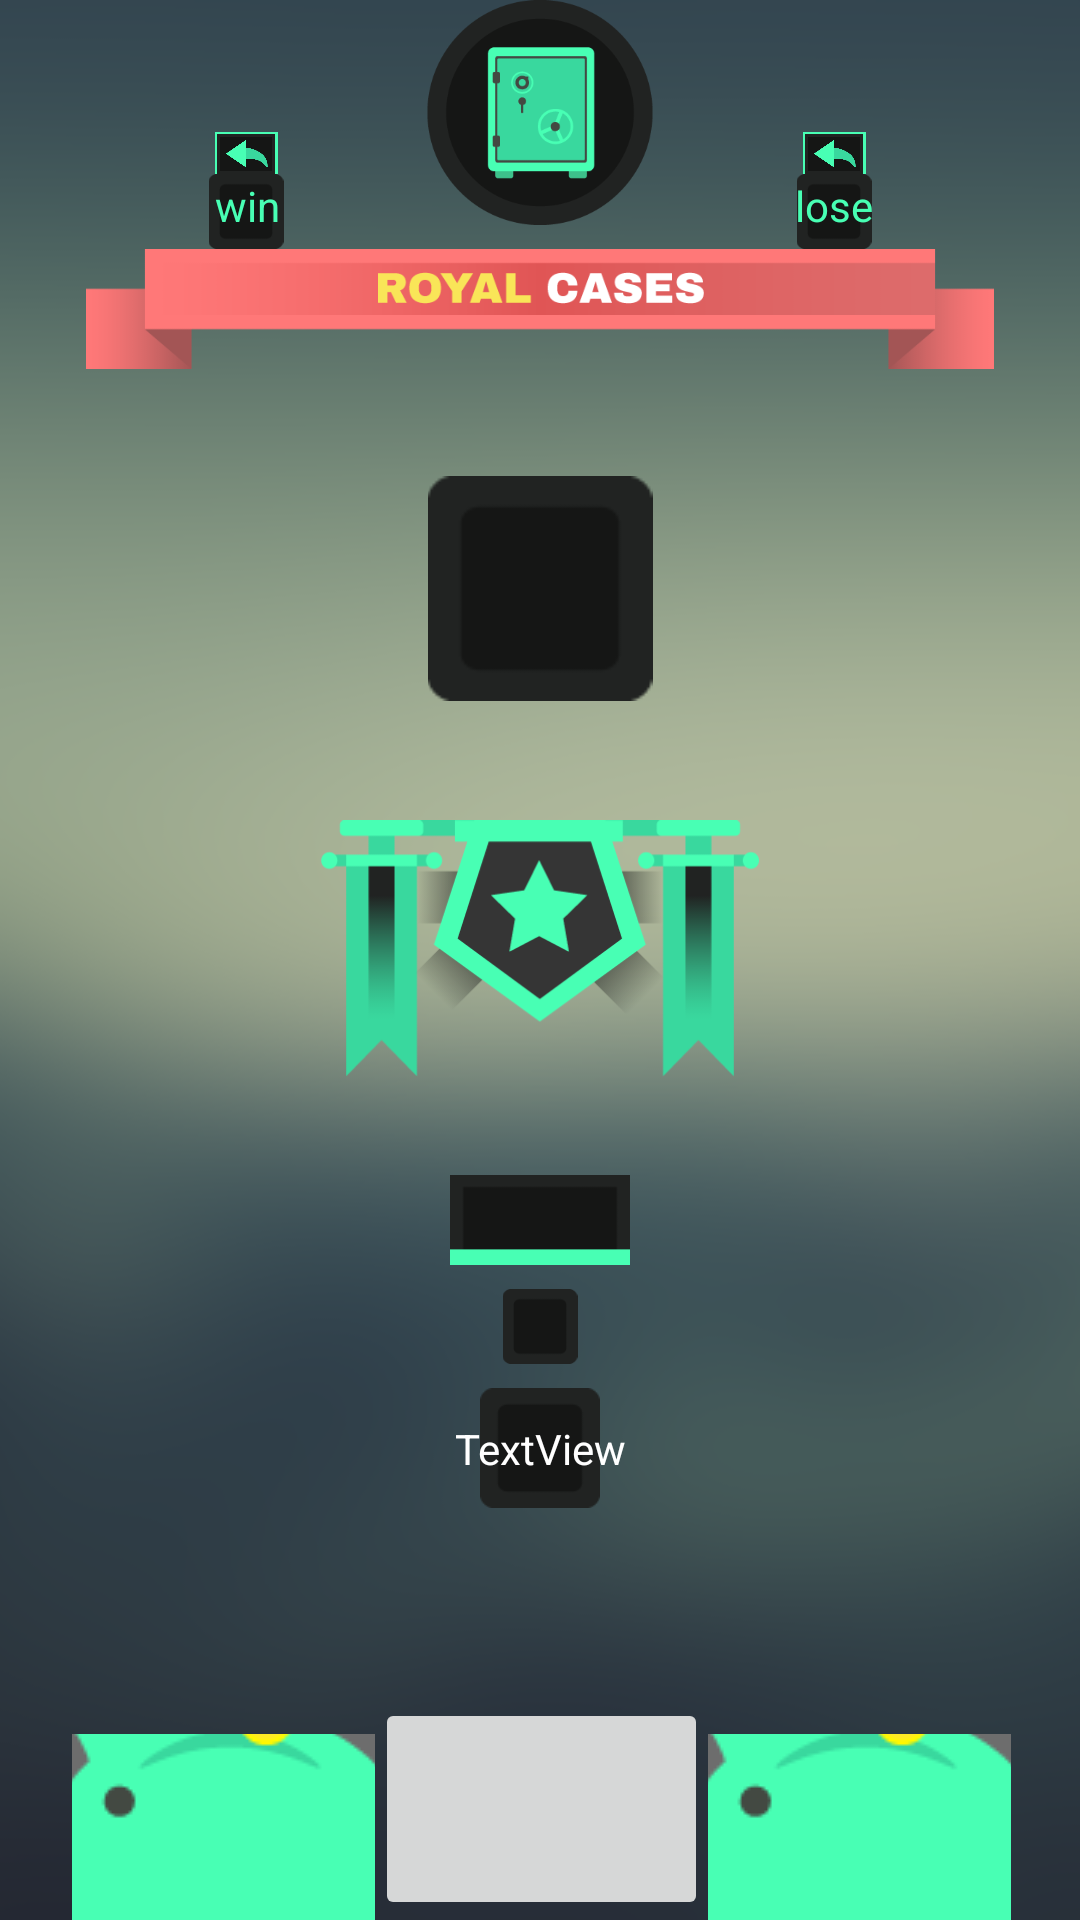

Point at icon controls on the screen. Image size 1080px x 1920px, points as [x,y].
back: [246,153], [834,153]
